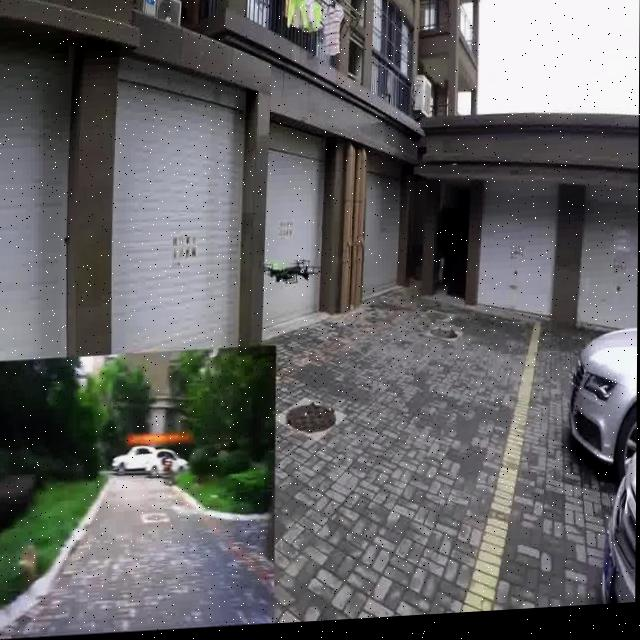drone: (261, 254, 321, 295)
